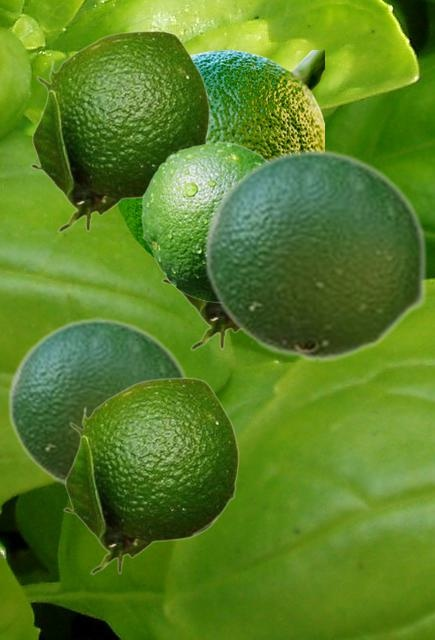dalandan: (203, 148, 427, 362), (116, 50, 323, 258), (29, 30, 209, 232), (62, 377, 238, 574), (7, 317, 189, 488), (141, 141, 265, 304), (160, 278, 239, 350)
